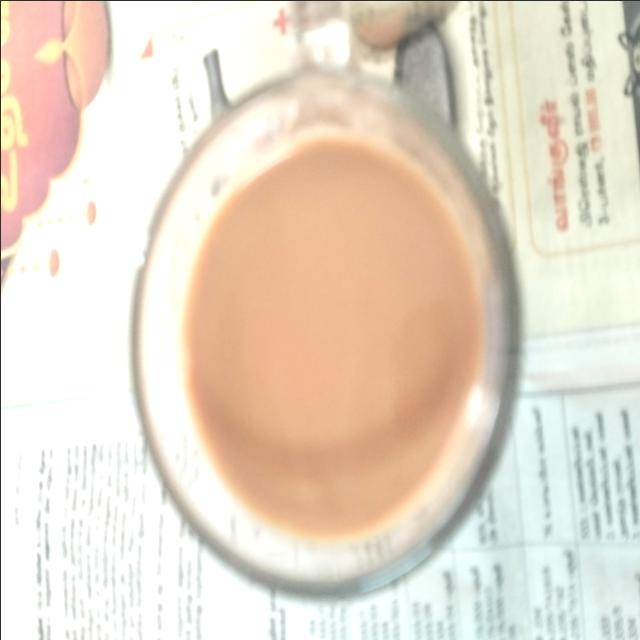glass-VX4N: (123, 0, 523, 605)
